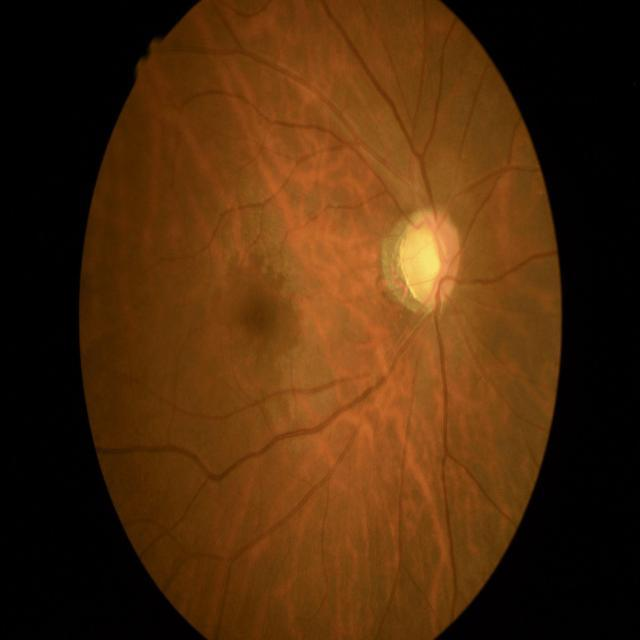cup: (409, 226, 446, 302)
disk: (398, 209, 461, 310)
